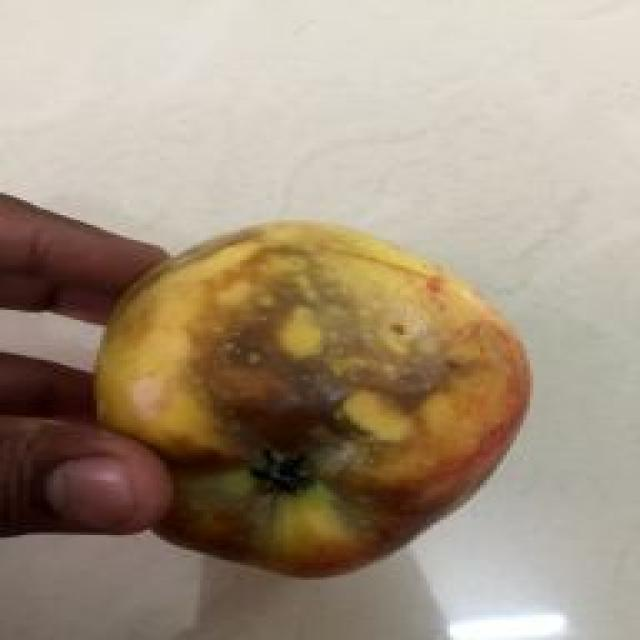Bad_Apple: (97, 221, 530, 576)
